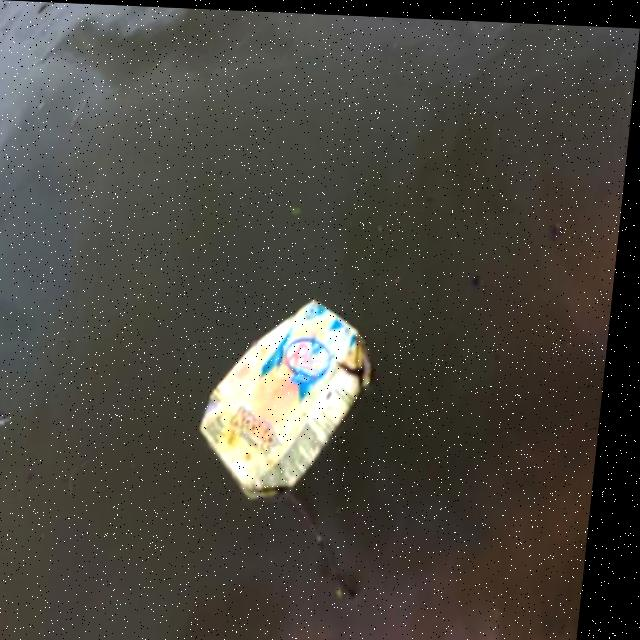paper: (171, 260, 404, 503)
